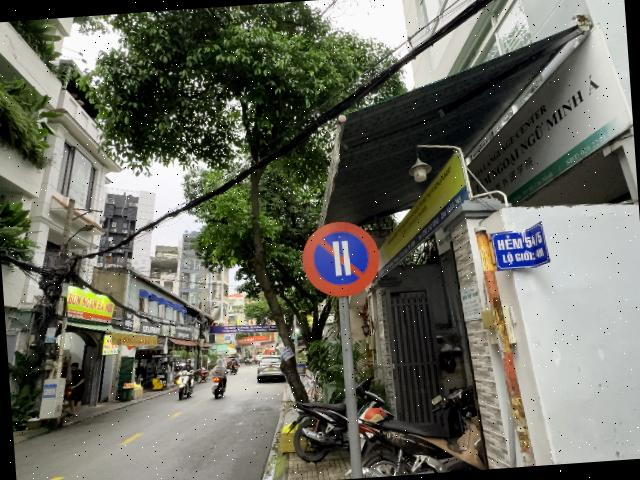cam-do-xe-ngay-chan: (300, 218, 382, 300)
